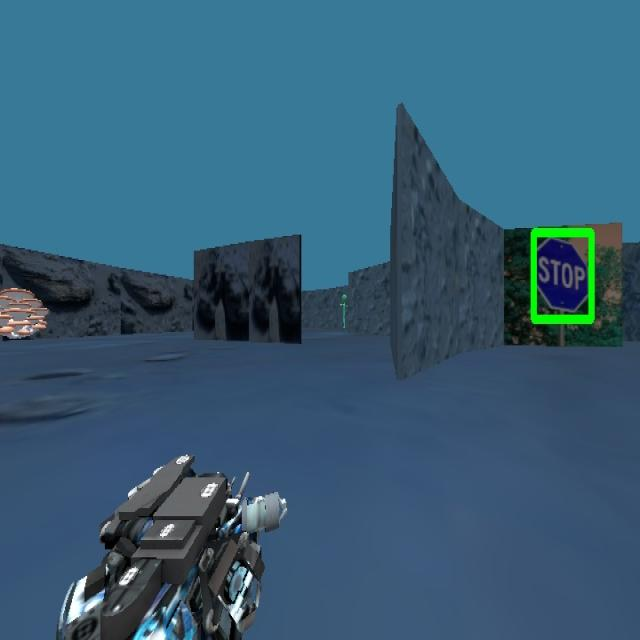Alien: (334, 284, 357, 340)
Mushroom: (0, 285, 49, 340)
Stop_Sign: (529, 226, 595, 326)
